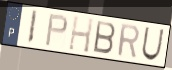B: (92, 19, 117, 56)
H: (67, 15, 95, 55)
I: (26, 9, 39, 46)
P: (43, 13, 69, 48)
R: (116, 22, 140, 60)
U: (140, 26, 165, 62)
